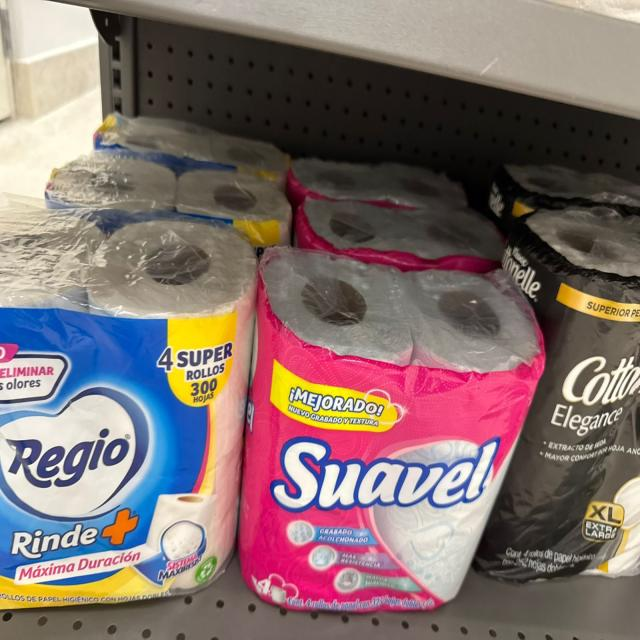Higienico Cottonelle Elegance XL 252h: (473, 210, 640, 585), (484, 165, 640, 244)
Higienico Suavel 325h 4rollos: (238, 246, 544, 614), (297, 192, 509, 267), (290, 157, 468, 212)
Papel Regio Rinde 4pz: (0, 200, 258, 611), (47, 150, 292, 223), (95, 112, 289, 179)
